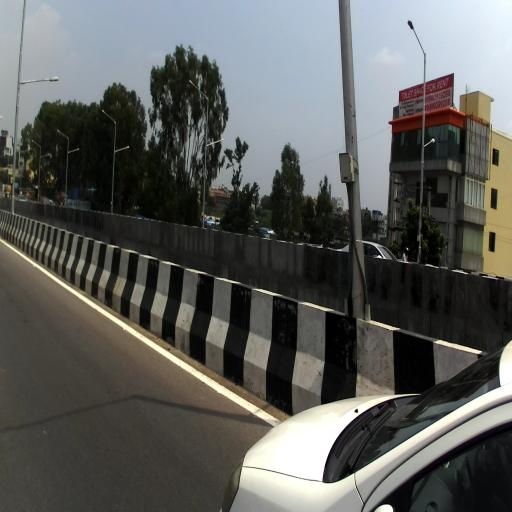street_light_0: (408, 20, 426, 63), (16, 76, 60, 90), (188, 84, 209, 103), (203, 137, 225, 149), (102, 110, 116, 124), (422, 137, 436, 148), (114, 145, 129, 155), (57, 128, 69, 140), (67, 148, 80, 154), (32, 140, 41, 148), (40, 154, 50, 160)
